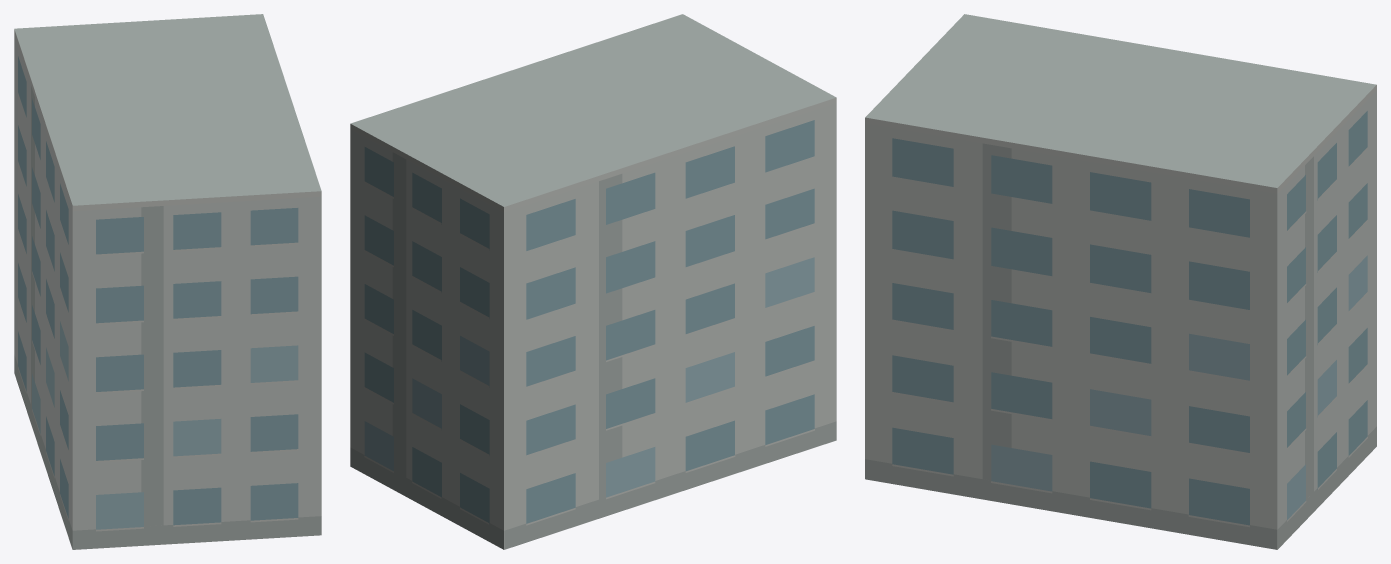
The model's file is residential-40896afa-c16d-4843-a89a-d821cc851734.glb.
The picture shows the model from 3 angles, left to right: view 1: azimuth 30°, elevation 25°; view 2: azimuth 150°, elevation 25°; view 3: azimuth 270°, elevation 25°; orthographic projection. The views are drawn at different scales.
Visible parts, largest first — view 1: residential-40896afa-c16d-4843-a89a-d821cc851734.tmp; view 2: residential-40896afa-c16d-4843-a89a-d821cc851734.tmp; view 3: residential-40896afa-c16d-4843-a89a-d821cc851734.tmp.
Part boxes in pixels (bbox=[...]): residential-40896afa-c16d-4843-a89a-d821cc851734.tmp: bbox=[14, 14, 321, 549]; residential-40896afa-c16d-4843-a89a-d821cc851734.tmp: bbox=[350, 14, 836, 549]; residential-40896afa-c16d-4843-a89a-d821cc851734.tmp: bbox=[865, 14, 1376, 549].
Bounding box in the file's own units: 15.75 × 15.25 × 19.56.
